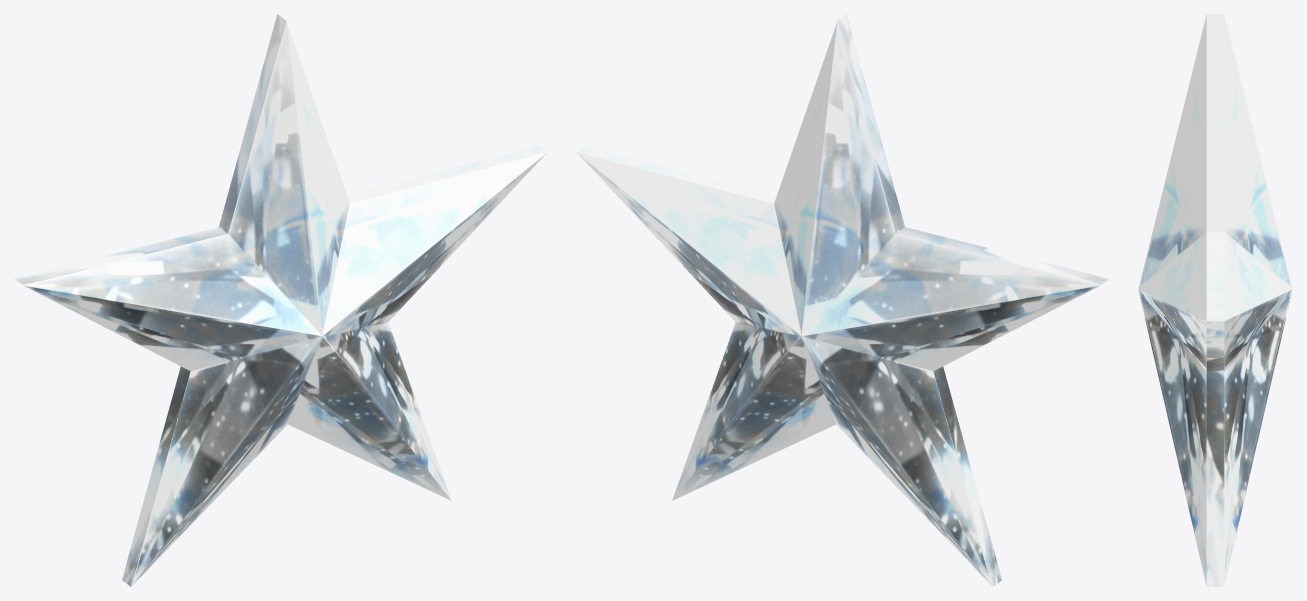
Rendered from Star_Diamond.glb.
3 renders of one model, left to right at view 1: azimuth 30°, elevation 25°; view 2: azimuth 150°, elevation 25°; view 3: azimuth 270°, elevation 25°, orthographic. The views are drawn at different scales.
Visible parts, largest first — view 1: Star; view 2: Star; view 3: Star.
Boxes of the visible parts, x1=… form: Star: x1=14, y1=14, x2=547, y2=586; Star: x1=576, y1=14, x2=1109, y2=586; Star: x1=1138, y1=14, x2=1292, y2=586.
Bounding box in the file's own units: 64.2 × 61.81 × 17.18.
Materials: 1 (1 with a texture image).
